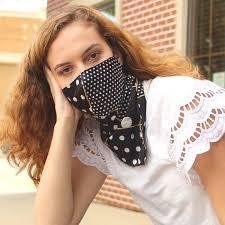scarf-kerchief: (57, 56, 151, 165)
